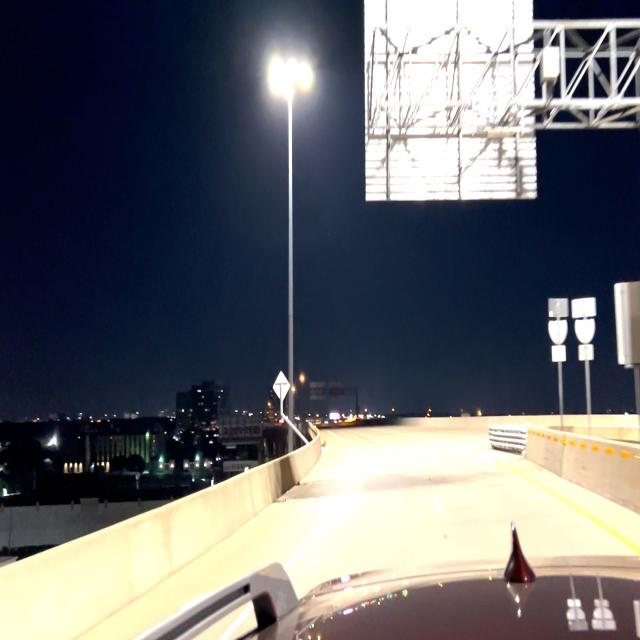back-of-sign: (365, 0, 538, 200), (615, 282, 640, 365), (572, 297, 598, 364), (547, 298, 568, 362), (273, 372, 289, 400)
